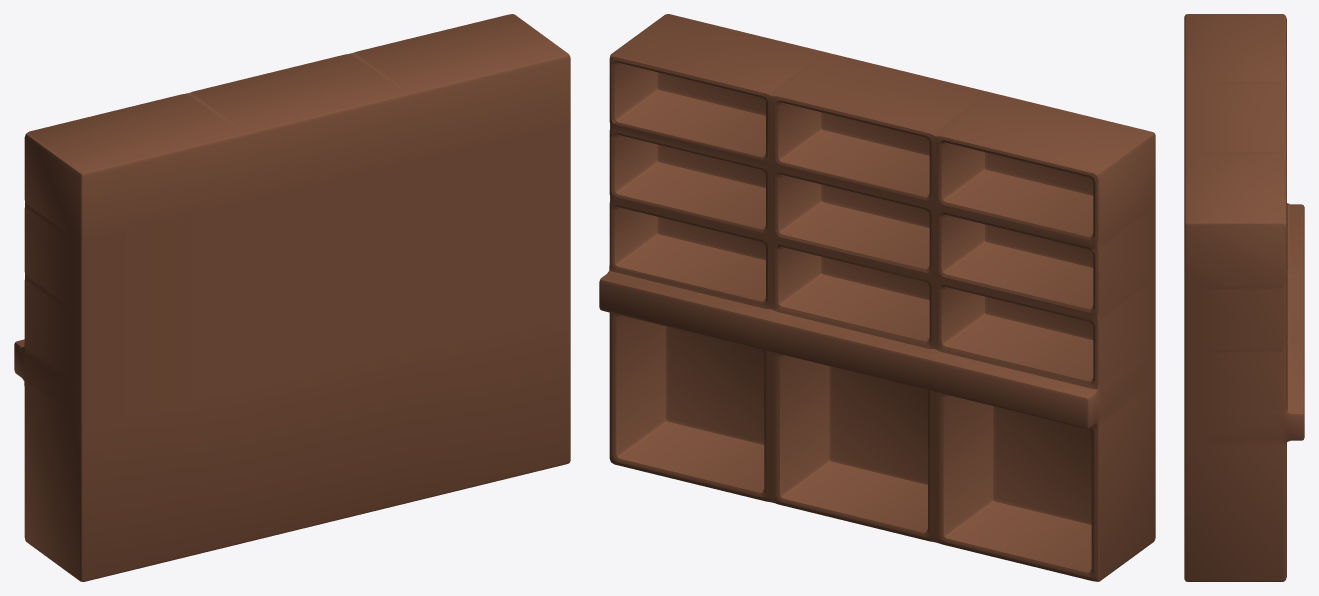
File: cabinet_1.glb
3 renders of one model, left to right at view 1: azimuth 30°, elevation 25°; view 2: azimuth 150°, elevation 25°; view 3: azimuth 270°, elevation 25°, orthographic. The views are drawn at different scales.
Visible parts, largest first — view 1: Cube.075; view 2: Cube.075; view 3: Cube.075.
Part boxes in pixels (x1,y1,x2,y2): Cube.075: [14, 14, 570, 581]; Cube.075: [599, 14, 1155, 581]; Cube.075: [1184, 14, 1304, 581].
Bounding box in the file's own units: 4.81 × 3.84 × 1.16.
1 material, 1 textured.
